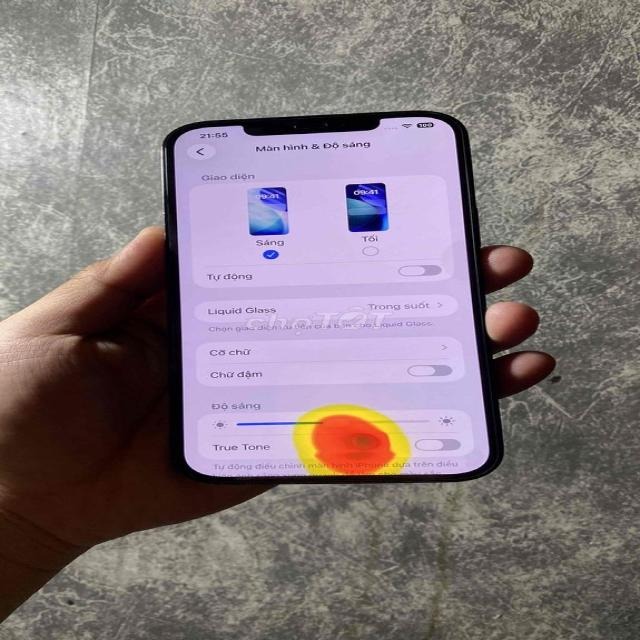gen_12_13: (156, 103, 513, 485)
screen_defect: (285, 379, 408, 488)
